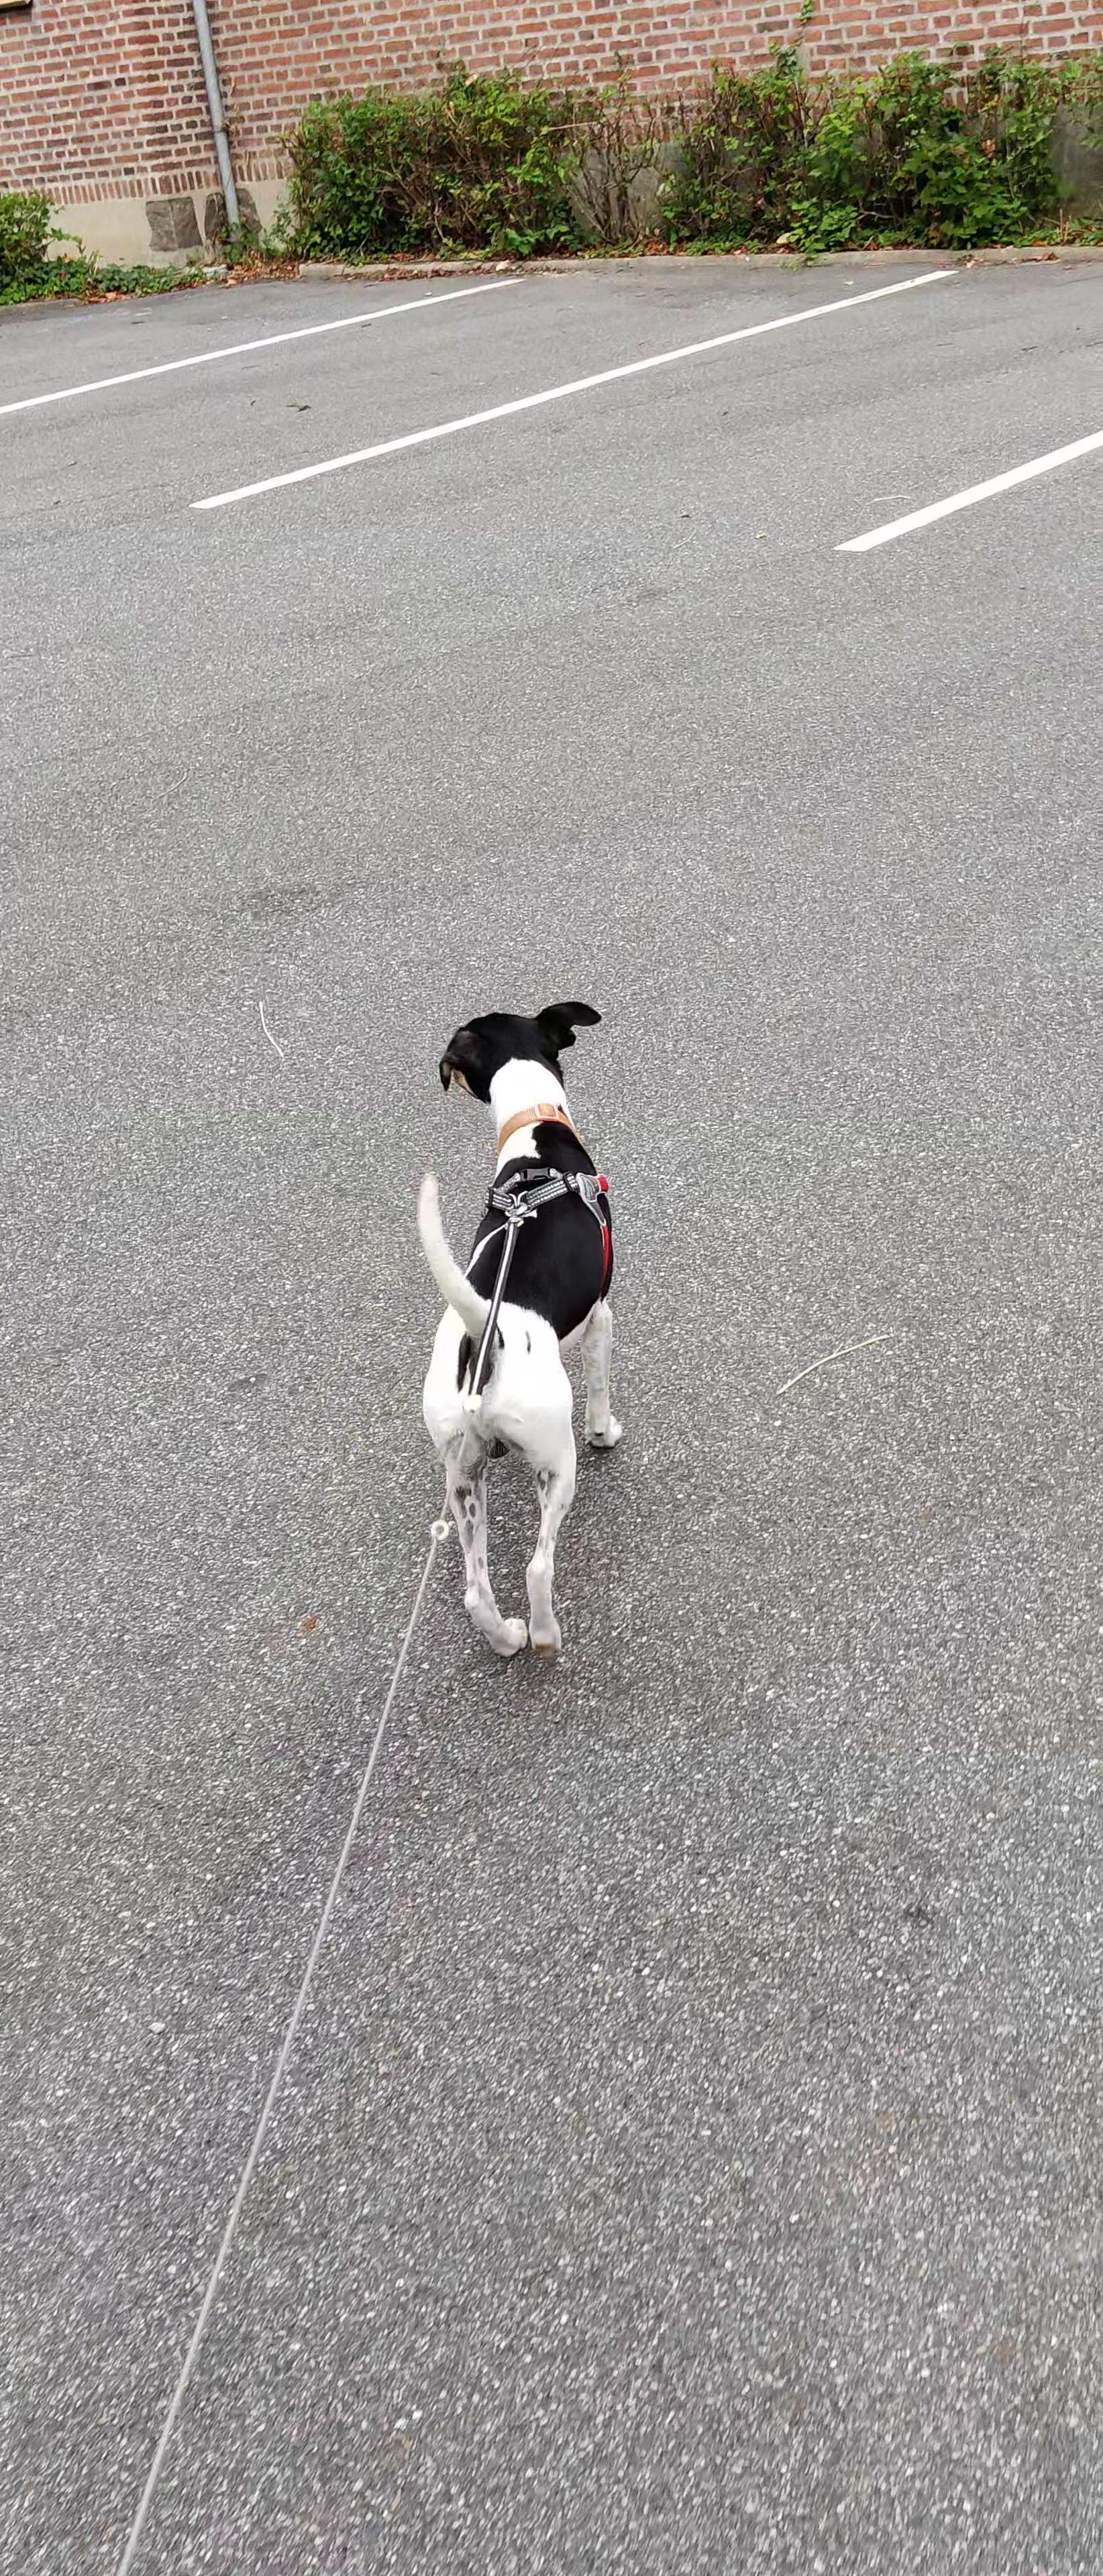Dog: (363, 991, 672, 1674)
